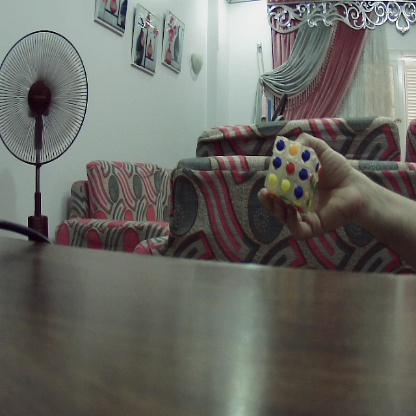Rubix Cube: (264, 135, 318, 203)
